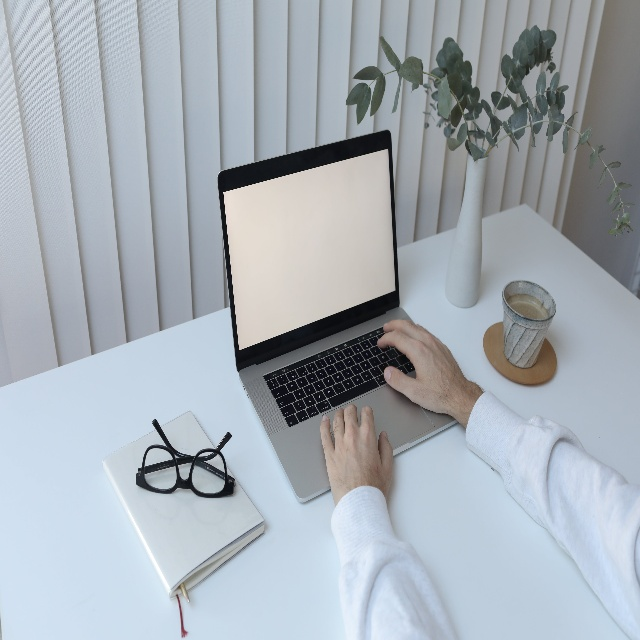Gafas: (135, 419, 236, 498)
Sin_guantes: (376, 318, 466, 417), (320, 403, 394, 505)
